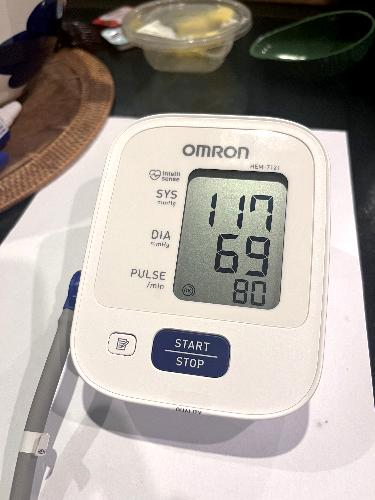bpm: (168, 159, 292, 312)
